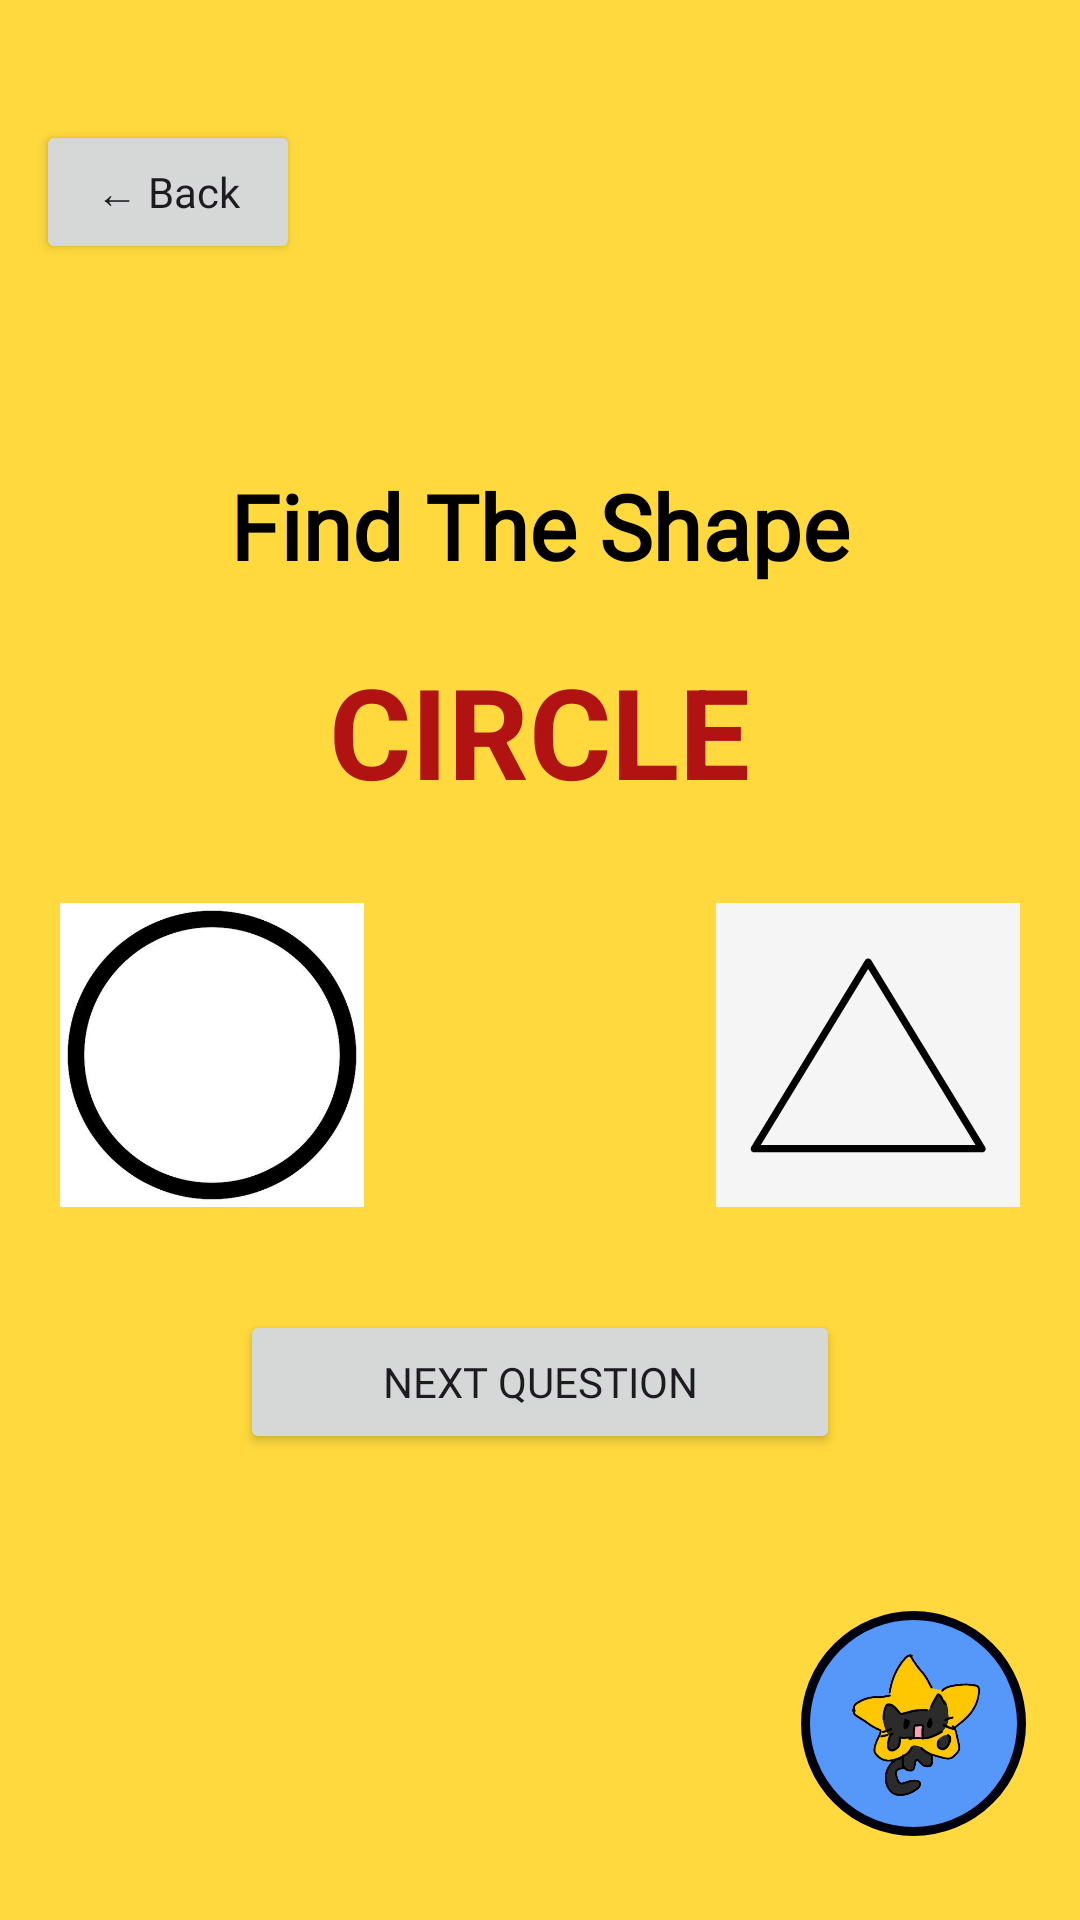

Icons on this 1080x1920 Android screen, each with the point to tap as (x,y):
star: (913,1723)
triangle: (868,1055)
